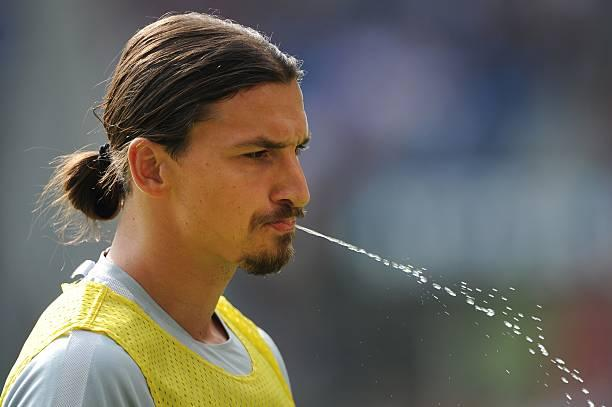Spitting: (77, 7, 365, 304)
